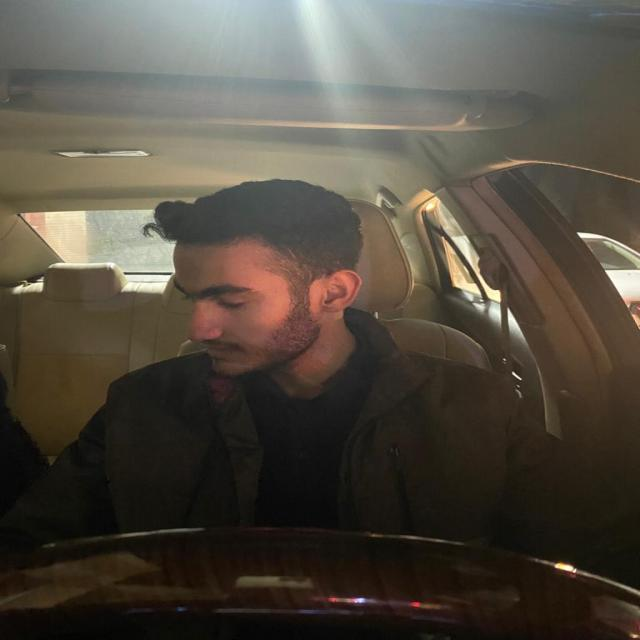drowsy: (153, 197, 365, 374)
